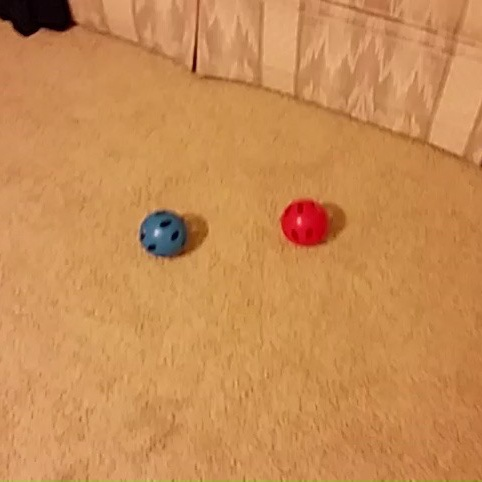ball: (278, 194, 334, 249), (136, 207, 189, 261)
